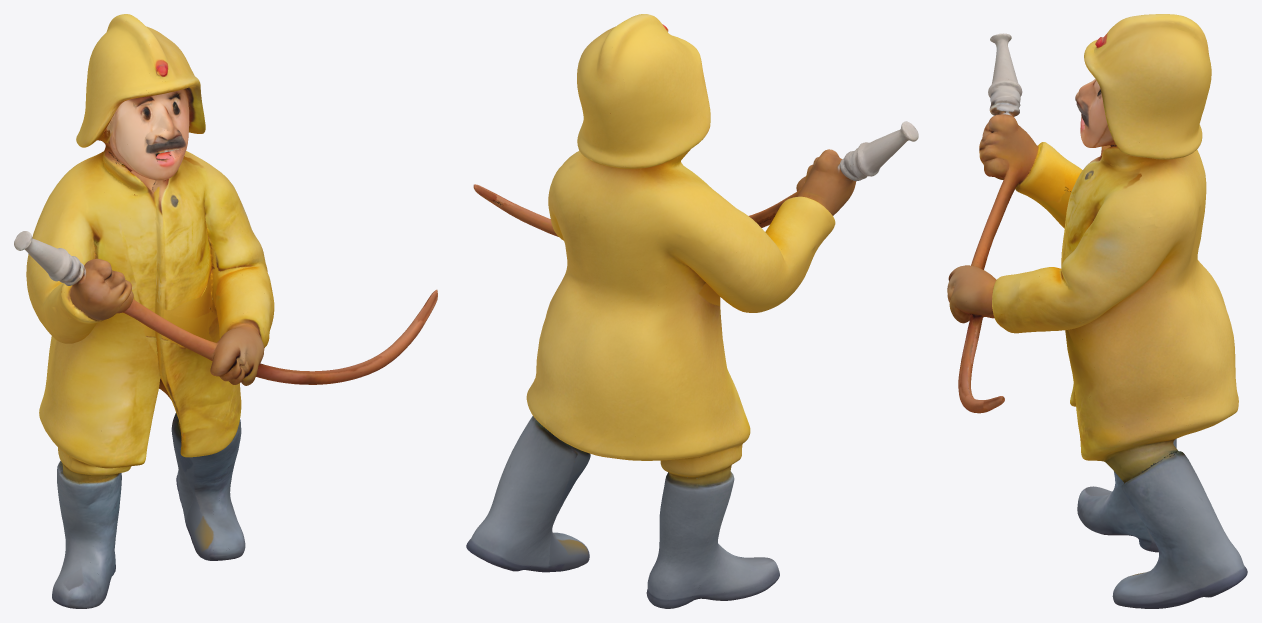
File: BomberoCasilla41.glb
3 views of the same model, side by side, from view 1: azimuth 30°, elevation 25°; view 2: azimuth 150°, elevation 25°; view 3: azimuth 270°, elevation 25° (orthographic). The views are drawn at different scales.
Visible parts, largest first — view 1: model; view 2: model; view 3: model.
Boxes of the visible parts, x1,y1,x2,y2 form: model: (14,14,437,608); model: (466,14,918,608); model: (947,14,1247,608).
Bounding box in the file's own units: 1.54 × 1.9 × 0.9376.
Materials: 1 (1 with a texture image).
